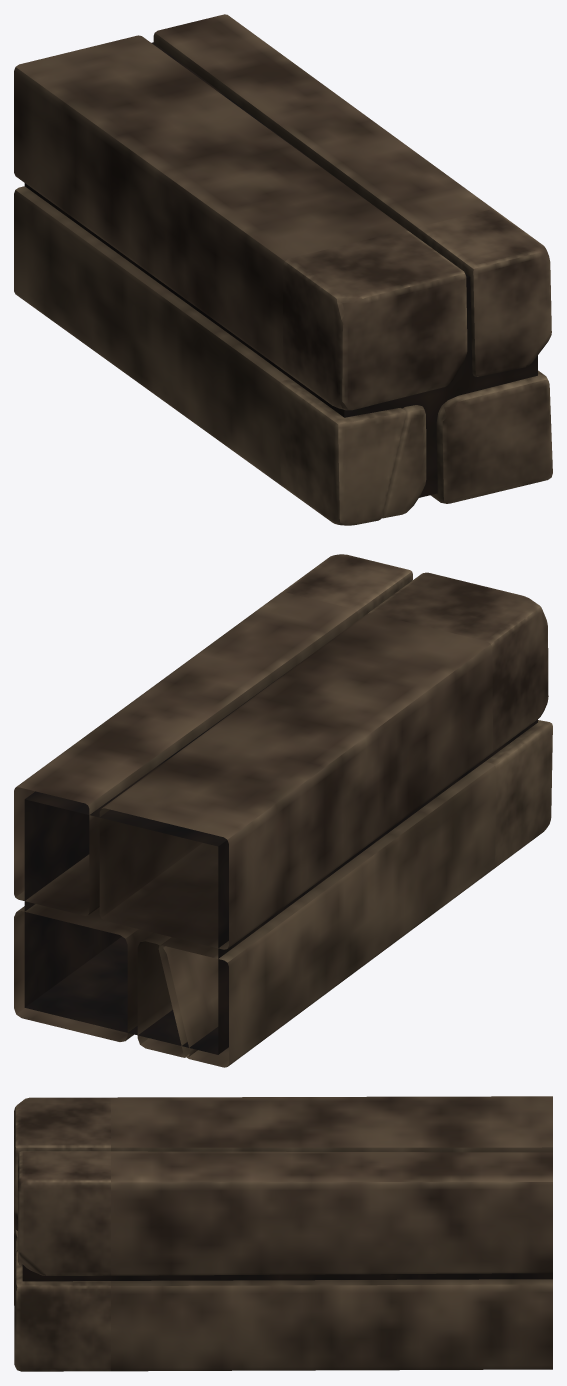
File: Ossuary_Fill_A.fbx
3 renders of one model, top to bottom at view 1: azimuth 30°, elevation 25°; view 2: azimuth 150°, elevation 25°; view 3: azimuth 270°, elevation 25°, orthographic. The views are drawn at different scales.
Parts seen in each view (by area): view 1: Ossuary_Fill_A; view 2: Ossuary_Fill_A; view 3: Ossuary_Fill_A.
Boxes of the visible parts, box(x1,y1,x2,y2) form: Ossuary_Fill_A: box(14, 14, 552, 525); Ossuary_Fill_A: box(14, 554, 552, 1067); Ossuary_Fill_A: box(14, 1096, 552, 1371).
Bounding box in the file's own units: 0.9733 × 0.9819 × 2.5.
